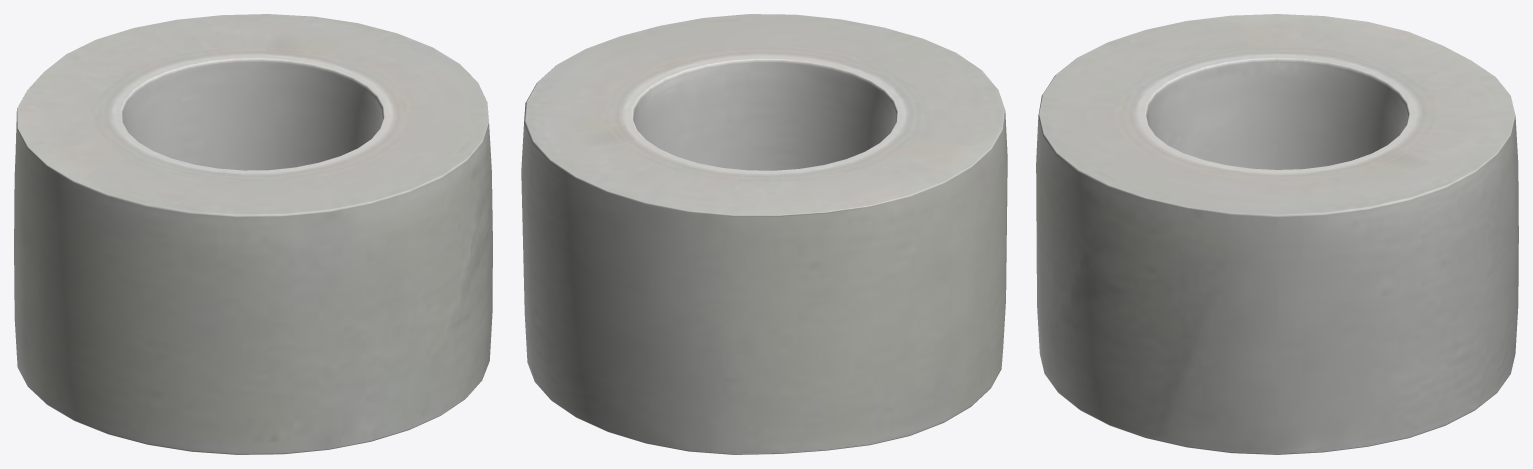
Rendered from medical_tape.gltf.
The picture shows the model from 3 angles, left to right: view 1: azimuth 30°, elevation 25°; view 2: azimuth 150°, elevation 25°; view 3: azimuth 270°, elevation 25°; orthographic projection.
Visible parts, largest first — view 1: medical_tape; view 2: medical_tape; view 3: medical_tape.
Part boxes in pixels (box(x1,y1,x2,y2)): medical_tape: box(14, 14, 492, 454); medical_tape: box(521, 14, 1007, 454); medical_tape: box(1036, 14, 1518, 454).
Bounding box in the file's own units: 0.0453 × 0.025 × 0.0452.
Materials: 1 (1 with a texture image).
